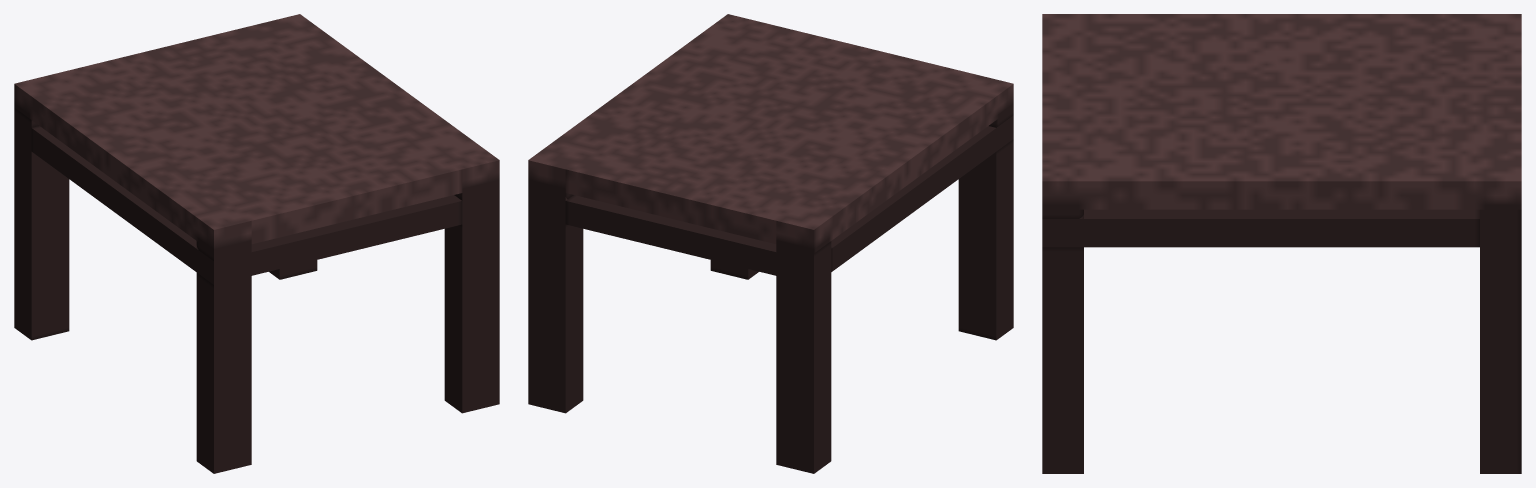
File: stolik_res.dae
3 renders of one model, left to right at view 1: azimuth 30°, elevation 25°; view 2: azimuth 150°, elevation 25°; view 3: azimuth 270°, elevation 25°, orthographic. The views are drawn at different scales.
Visible parts, largest first — view 1: Content; view 2: Content; view 3: Content.
Boxes of the visible parts, bbox=[...] form: Content: bbox=[14, 14, 499, 473]; Content: bbox=[528, 14, 1013, 473]; Content: bbox=[1042, 14, 1521, 473].
Size of the model in its own units: 38 by 31 by 46.
1 material, 1 textured.
